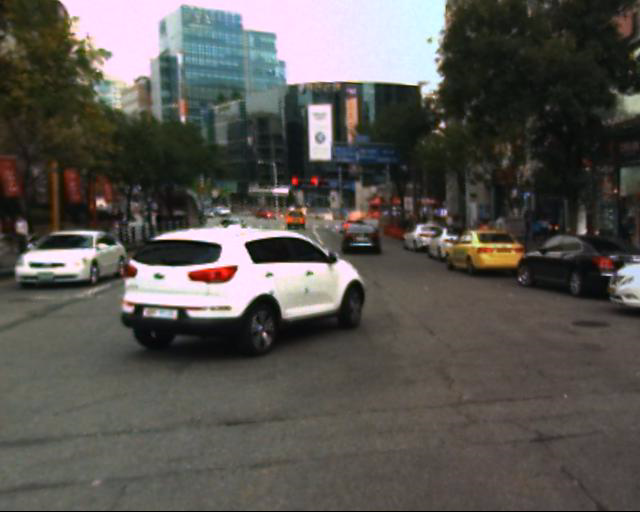person: (215, 214, 245, 272), (538, 210, 561, 252), (522, 212, 542, 252)
